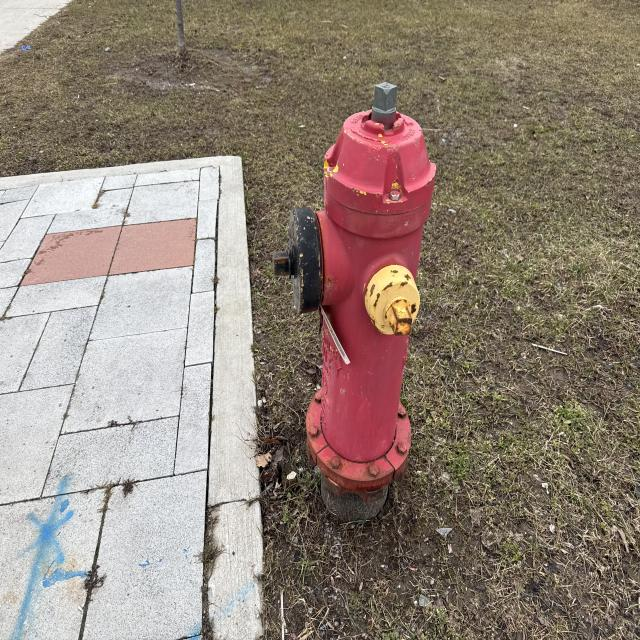Fire hydrant: (272, 81, 437, 504)
